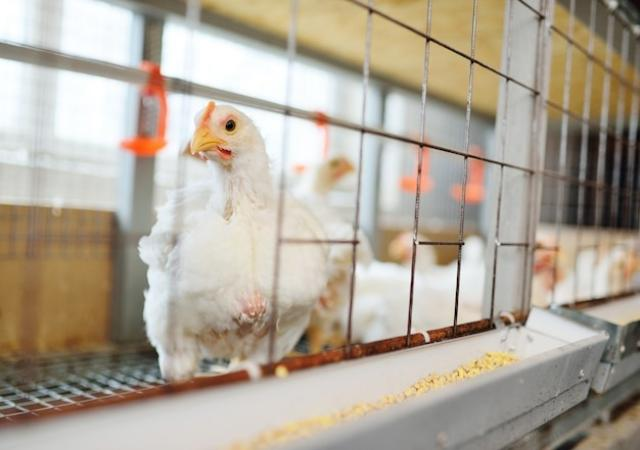Chicken: (138, 101, 334, 388)
